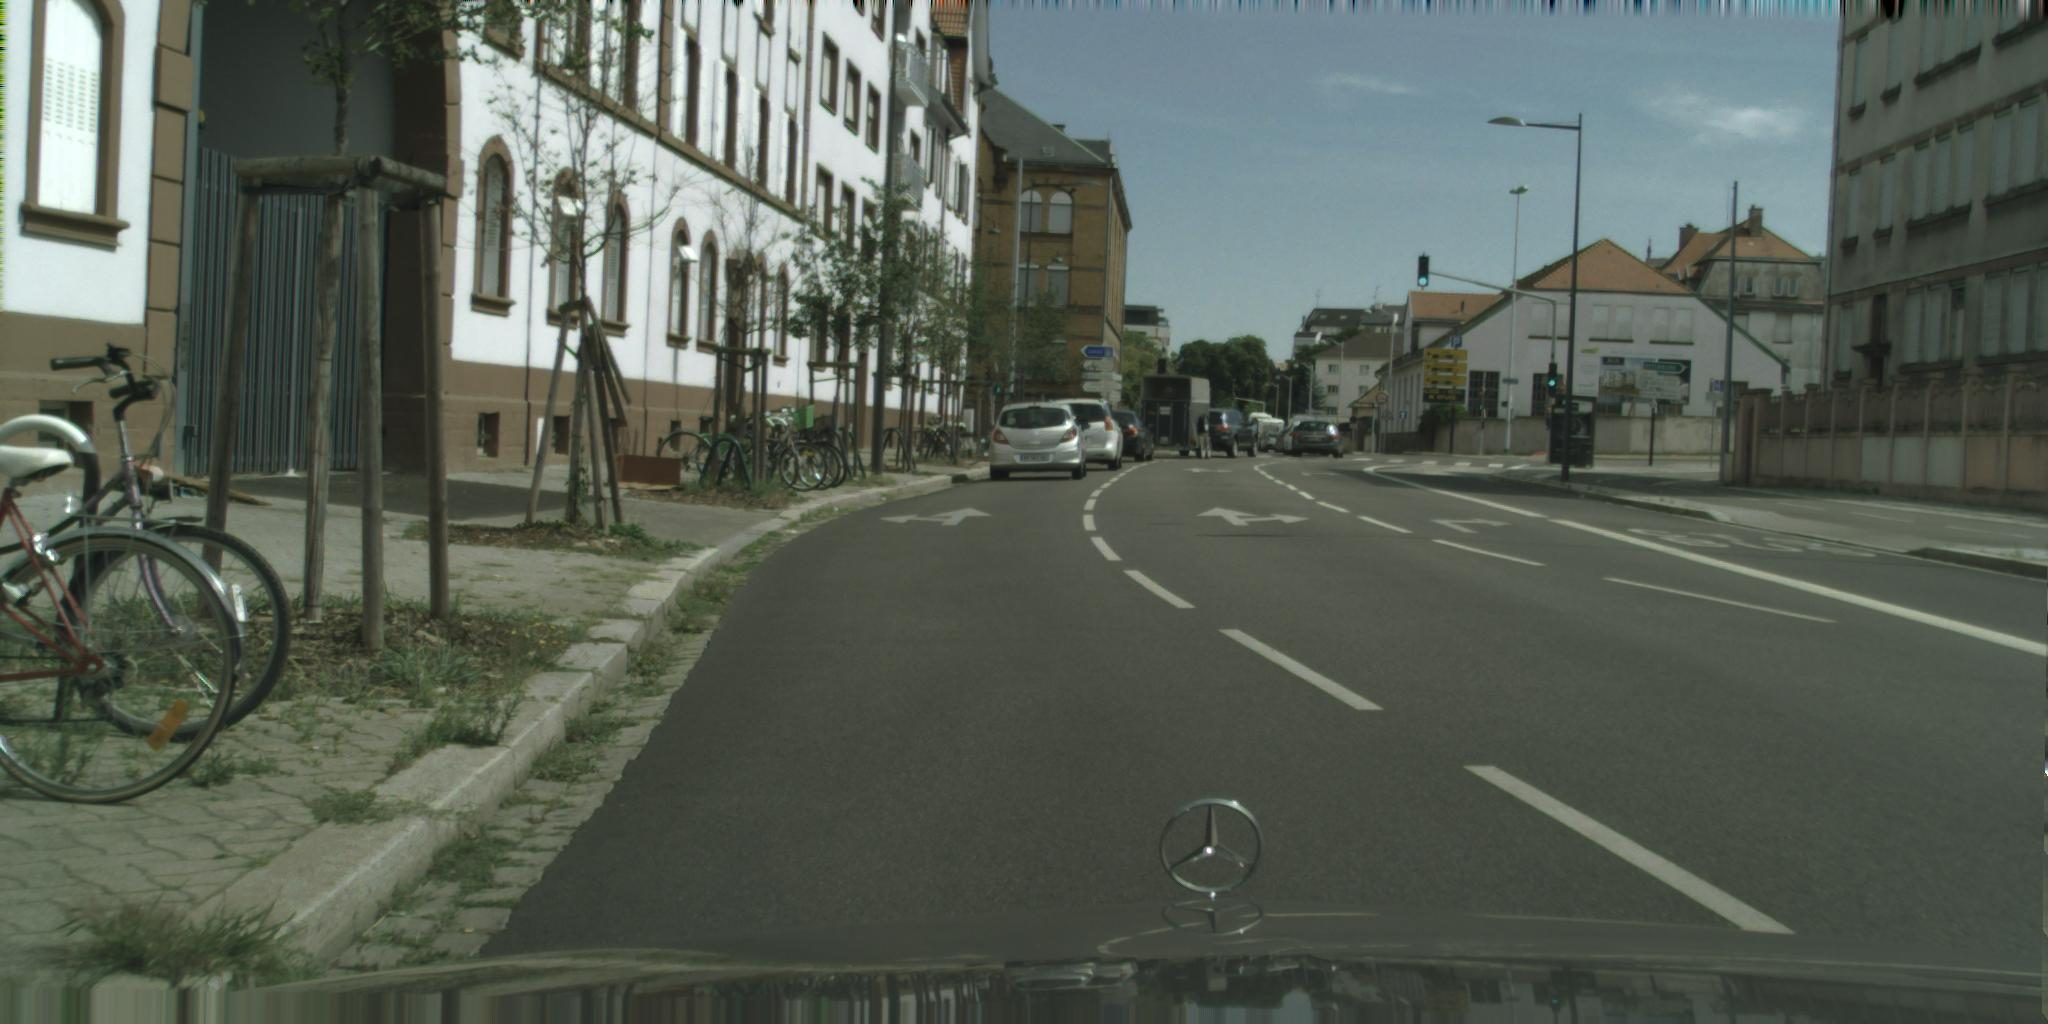bicycle: (1, 342, 293, 737), (1, 445, 248, 806), (908, 421, 987, 466)
car: (989, 402, 1091, 481), (1046, 398, 1128, 472), (1179, 410, 1260, 458), (1102, 411, 1156, 462), (1292, 421, 1347, 460), (1246, 413, 1272, 448), (1283, 421, 1305, 456), (1276, 428, 1292, 455)
